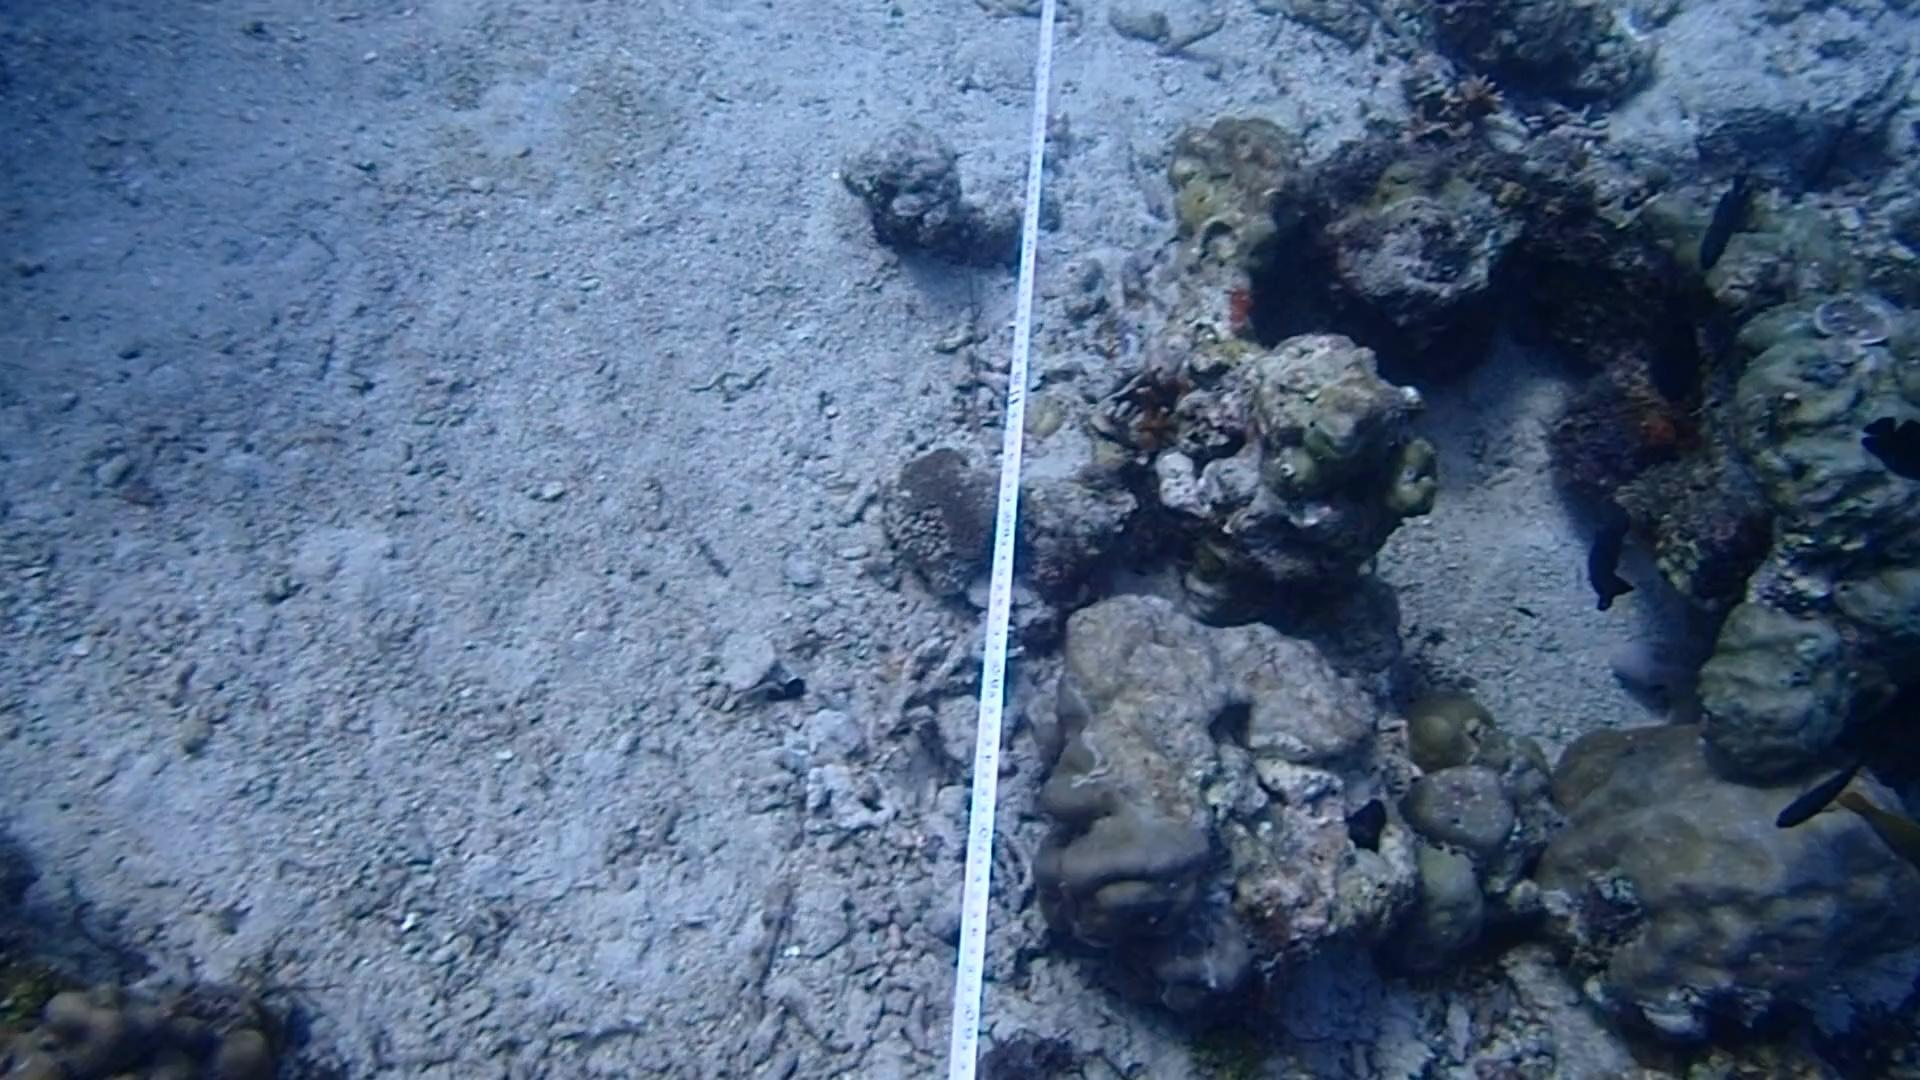Dark Fish: (1756, 740, 1874, 836), (1572, 501, 1655, 618), (1688, 174, 1755, 274), (1853, 404, 1919, 485)
Half Blue - Half Yellow: (1837, 775, 1920, 878)
